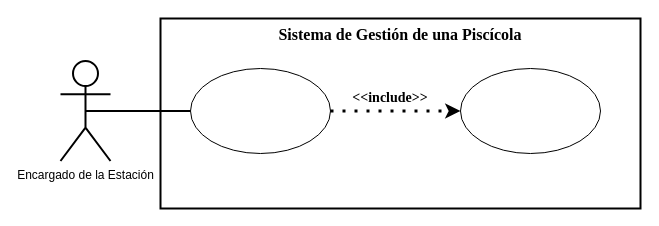
This 659x226 diagram has some shape labels left out. Here are the shapes that lost their labels. From the top down, the box of each, then its label:
(190, 68, 330, 154): Registrar Cosecha
(460, 68, 600, 154): Programar Cosecha
